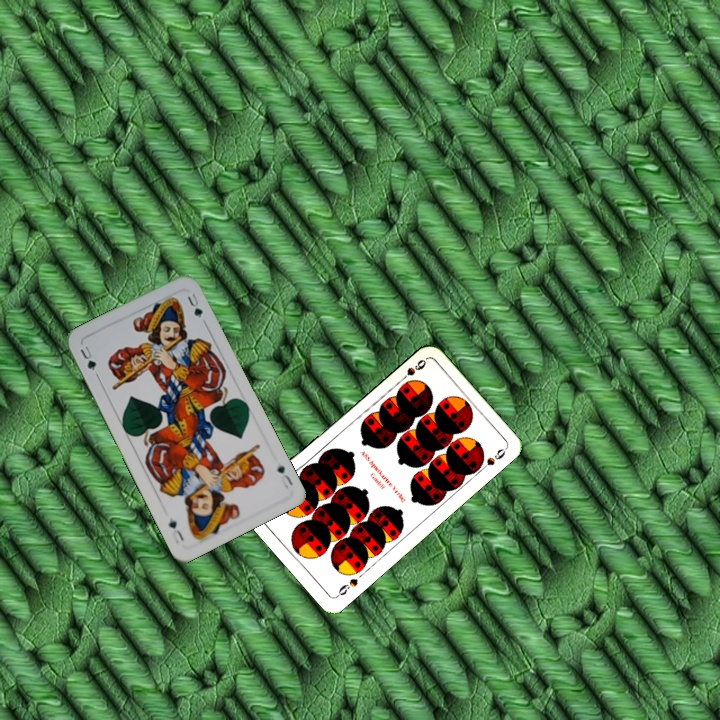GU: (76, 342, 101, 379), (273, 460, 295, 488)
S9: (395, 355, 429, 385), (332, 574, 360, 600)
